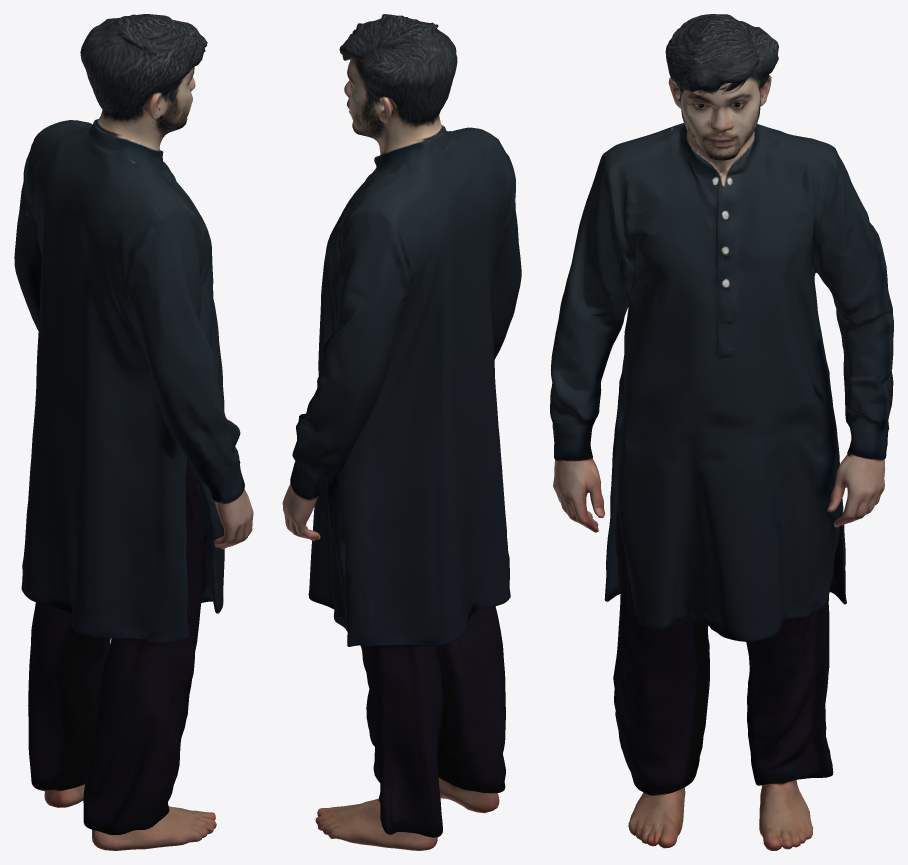
Rendered from avatar_dressed.glb.
3 renders of one model, left to right at view 1: azimuth 30°, elevation 25°; view 2: azimuth 150°, elevation 25°; view 3: azimuth 270°, elevation 25°, orthographic.
Parts seen in each view (by area): view 1: tripo_node_db6d5b26-54c6-432a-929a-ffb88489cdb9; view 2: tripo_node_db6d5b26-54c6-432a-929a-ffb88489cdb9; view 3: tripo_node_db6d5b26-54c6-432a-929a-ffb88489cdb9.
Part boxes in pixels (box(x1,y1,x2,y2)): tripo_node_db6d5b26-54c6-432a-929a-ffb88489cdb9: box(14, 14, 253, 850); tripo_node_db6d5b26-54c6-432a-929a-ffb88489cdb9: box(282, 14, 521, 850); tripo_node_db6d5b26-54c6-432a-929a-ffb88489cdb9: box(550, 14, 893, 850).
Size of the model in its own units: 0.3707 by 1.75 by 0.6754.
1 material, 1 textured.
